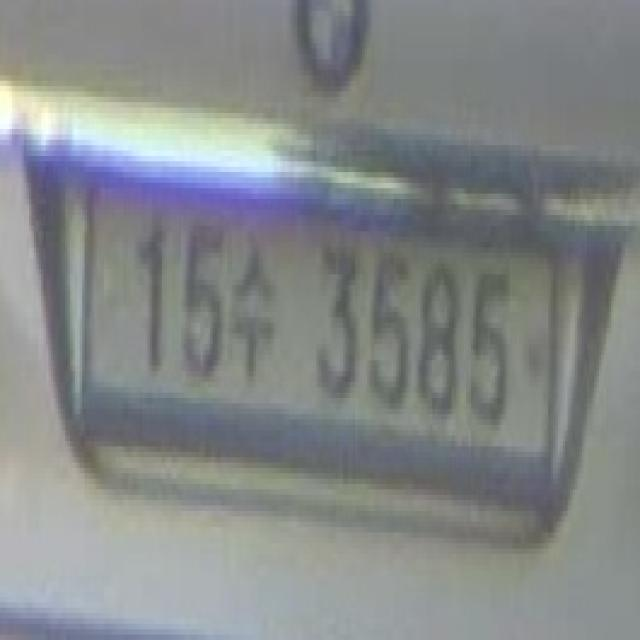1: (133, 199, 174, 376)
3: (312, 226, 364, 414)
5: (464, 258, 514, 446), (365, 237, 413, 425), (179, 205, 227, 392)
8: (416, 248, 462, 430)
license_plate: (72, 162, 563, 532)
su: (229, 226, 278, 403)
